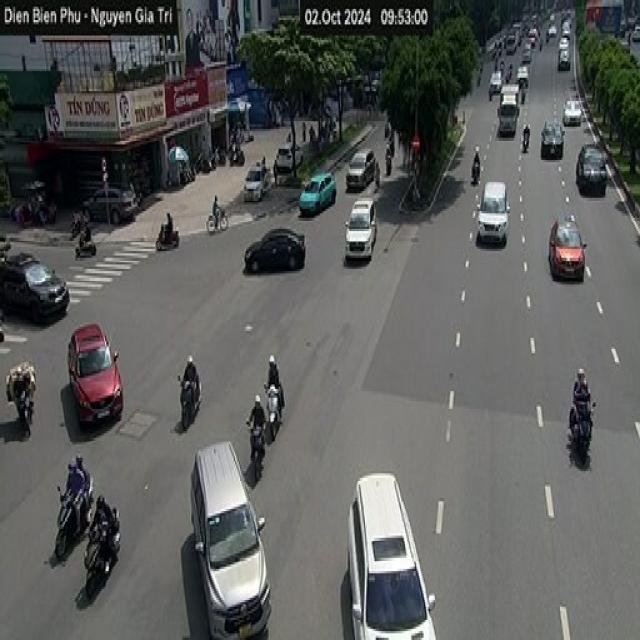car: (190, 440, 271, 638), (346, 471, 436, 638), (66, 322, 122, 427), (0, 251, 69, 322), (244, 227, 305, 273), (548, 213, 586, 280), (81, 184, 138, 224), (343, 196, 378, 260), (476, 180, 510, 242), (298, 171, 336, 216), (575, 142, 607, 194), (345, 147, 375, 189), (242, 162, 272, 200), (540, 120, 564, 158), (276, 143, 298, 181), (566, 92, 585, 128), (486, 70, 503, 104), (514, 66, 531, 96), (518, 45, 536, 68), (559, 45, 569, 83), (560, 17, 572, 46), (558, 34, 568, 61)
motorcycle: (54, 476, 94, 560), (76, 530, 124, 596), (569, 400, 595, 464), (178, 373, 202, 431), (262, 382, 282, 442), (246, 420, 265, 482), (12, 397, 39, 438), (155, 222, 179, 249), (77, 238, 97, 265), (384, 160, 401, 183), (520, 134, 532, 162), (468, 167, 482, 190)
person: (568, 366, 594, 436), (93, 493, 117, 562), (56, 458, 82, 515), (65, 447, 94, 498), (266, 339, 283, 406), (176, 352, 200, 393), (11, 362, 30, 410), (249, 397, 267, 444), (582, 371, 594, 424), (471, 141, 485, 172), (522, 121, 534, 150), (164, 203, 174, 236), (211, 193, 220, 229), (81, 219, 93, 242), (385, 147, 392, 171)
truck: (500, 73, 521, 143), (508, 25, 523, 62)
